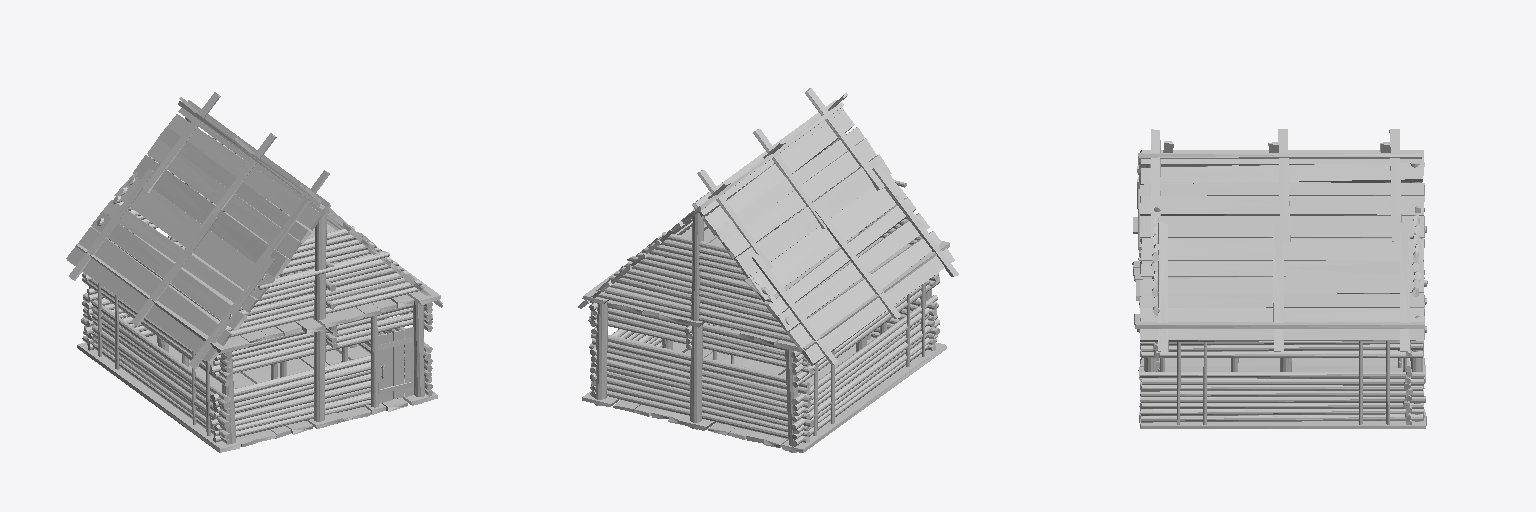
File: forest_cabin_LOD0.obj
3 renders of one model, left to right at view 1: azimuth 30°, elevation 25°; view 2: azimuth 150°, elevation 25°; view 3: azimuth 270°, elevation 25°, orthographic.
Parts seen in each view (by area): view 1: barn.034_Cube.028, barn.028_Cube.022; view 2: barn.034_Cube.028; view 3: barn.034_Cube.028.
Part boxes in pixels (x1,y1,x2,y2): barn.034_Cube.028: (66,92,442,452); barn.028_Cube.022: (378,327,413,403); barn.034_Cube.028: (578,88,958,452); barn.034_Cube.028: (1132,129,1427,428).
Bounding box in the file's own units: 30.92 × 28.31 × 31.11.